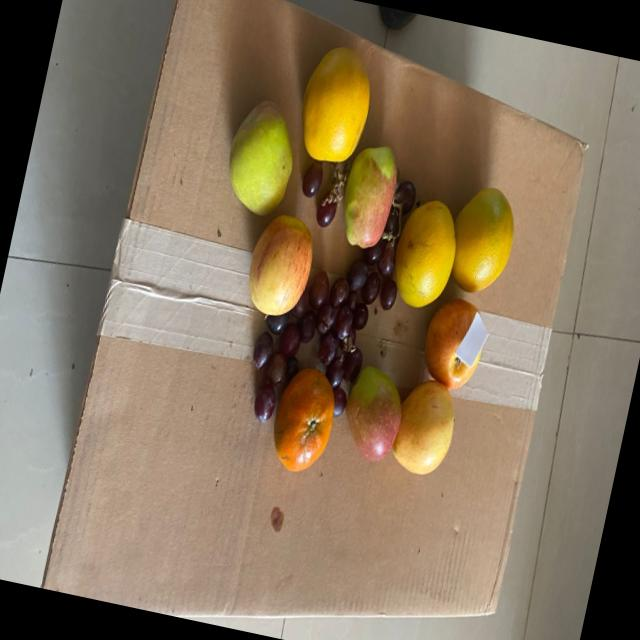hoja: (451, 314, 489, 374)
